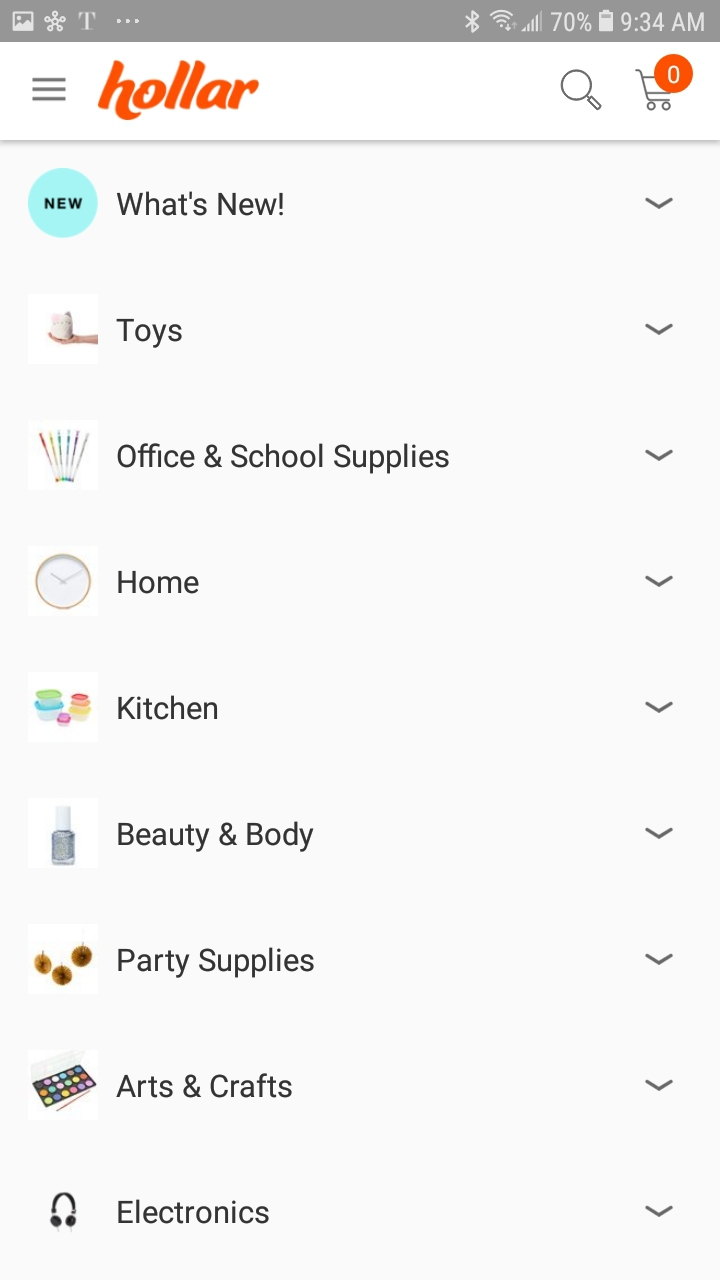Icon: (635, 55, 693, 112), (560, 70, 602, 111), (32, 78, 67, 103), (645, 1079, 673, 1092), (645, 827, 673, 840), (645, 702, 674, 714), (645, 1206, 673, 1218), (645, 953, 673, 965), (645, 576, 673, 588), (645, 450, 673, 462), (645, 324, 673, 336), (645, 198, 673, 210)
Image: (98, 61, 259, 121), (29, 1049, 98, 1119), (30, 924, 99, 994), (29, 798, 98, 868), (29, 672, 98, 742), (30, 546, 99, 616), (30, 421, 99, 491), (30, 295, 99, 365), (51, 1192, 78, 1232)
Text: (118, 443, 450, 475), (118, 947, 315, 979), (118, 821, 315, 853), (117, 1072, 293, 1098), (117, 192, 284, 217), (118, 1199, 270, 1224), (119, 695, 219, 720), (116, 319, 183, 349), (118, 570, 200, 594)
TextButton: (29, 169, 98, 238)
UpperTaskBar: (1, 1, 720, 43)
